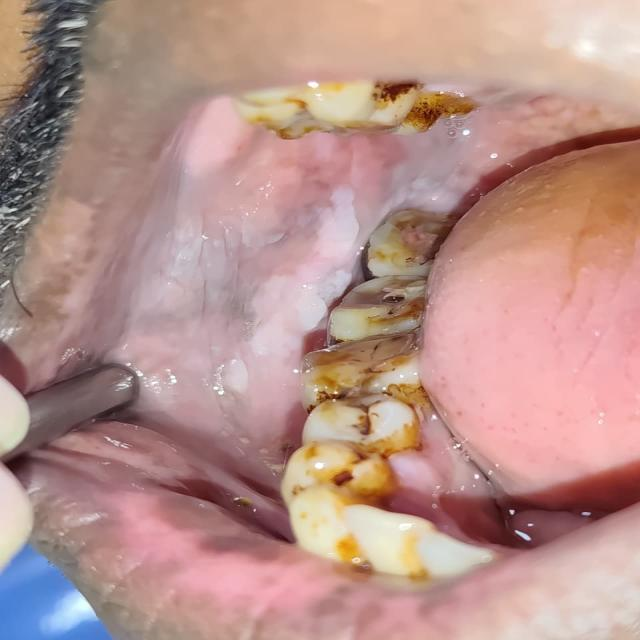leukoplakia-detection: (63, 113, 516, 485)
processing_area: (48, 85, 639, 557)
